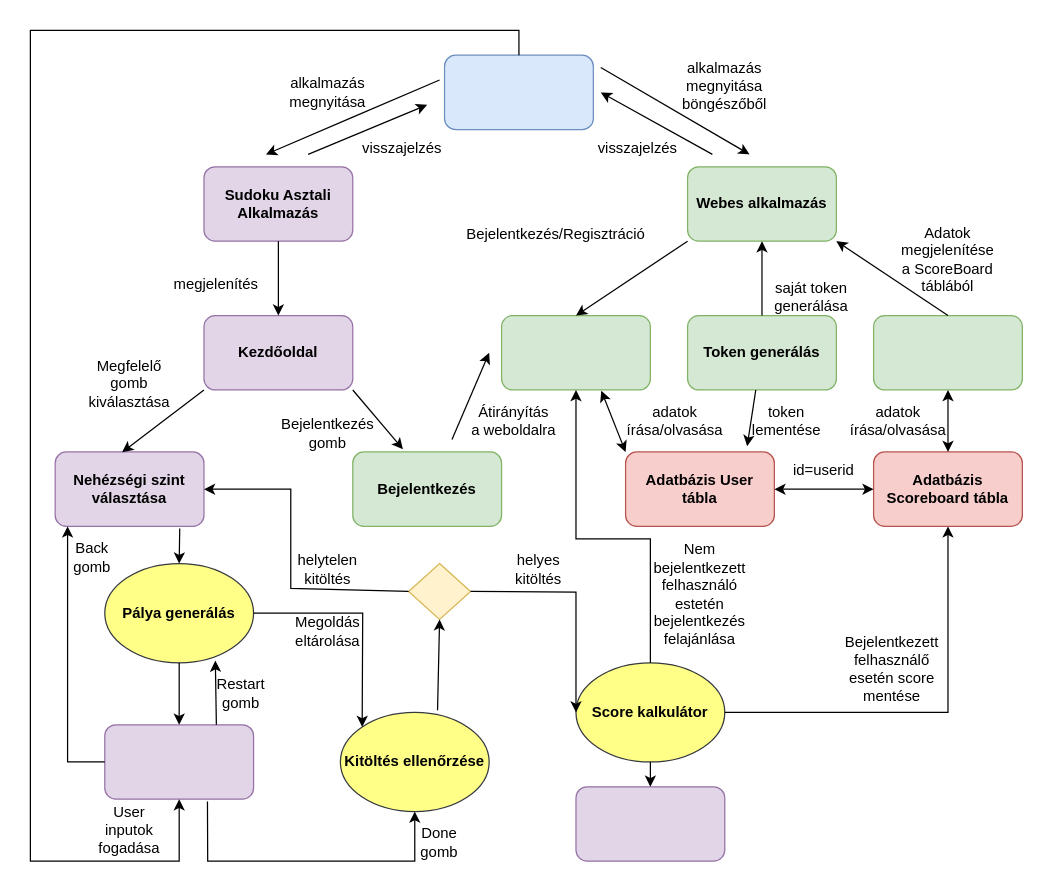
Image size: 1044x893. Some labels were removed from this diagram. The shapes that lost their labels are listed below. From the top down, each one's centre as x and y in pixels, then its label:
(518,92): Felhasználó
(575,352): Login oldal
(947,352): ScoreBoard
(179,761): Sudoku pálya
(650,823): Eredmény megjelenítése
